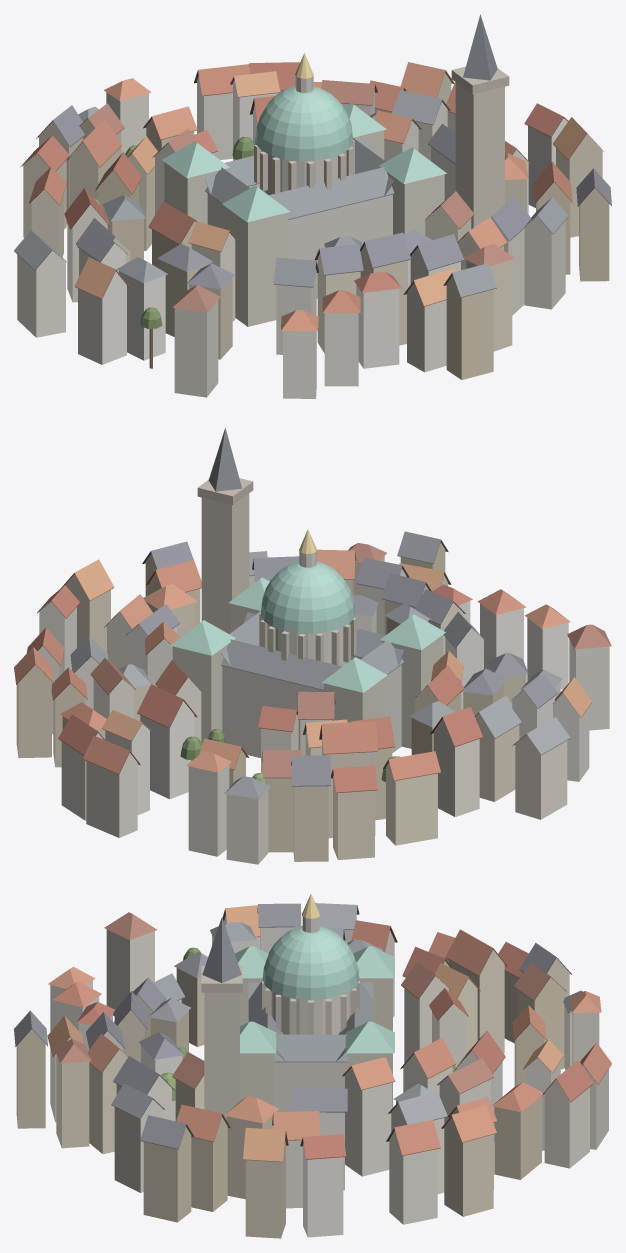
File: capital_b.glb
3 views of the same model, one above another, from view 1: azimuth 30°, elevation 25°; view 2: azimuth 150°, elevation 25°; view 3: azimuth 270°, elevation 25° (orthographic). The views are drawn at different scales.
Visible parts, largest first — view 1: capital_b; view 2: capital_b; view 3: capital_b.
Part boxes in pixels (x1,y1,x2,y2): capital_b: [14, 14, 611, 398]; capital_b: [14, 428, 611, 864]; capital_b: [14, 894, 611, 1238].
Size of the model in its own units: 62.27 by 28.5 by 60.46.
